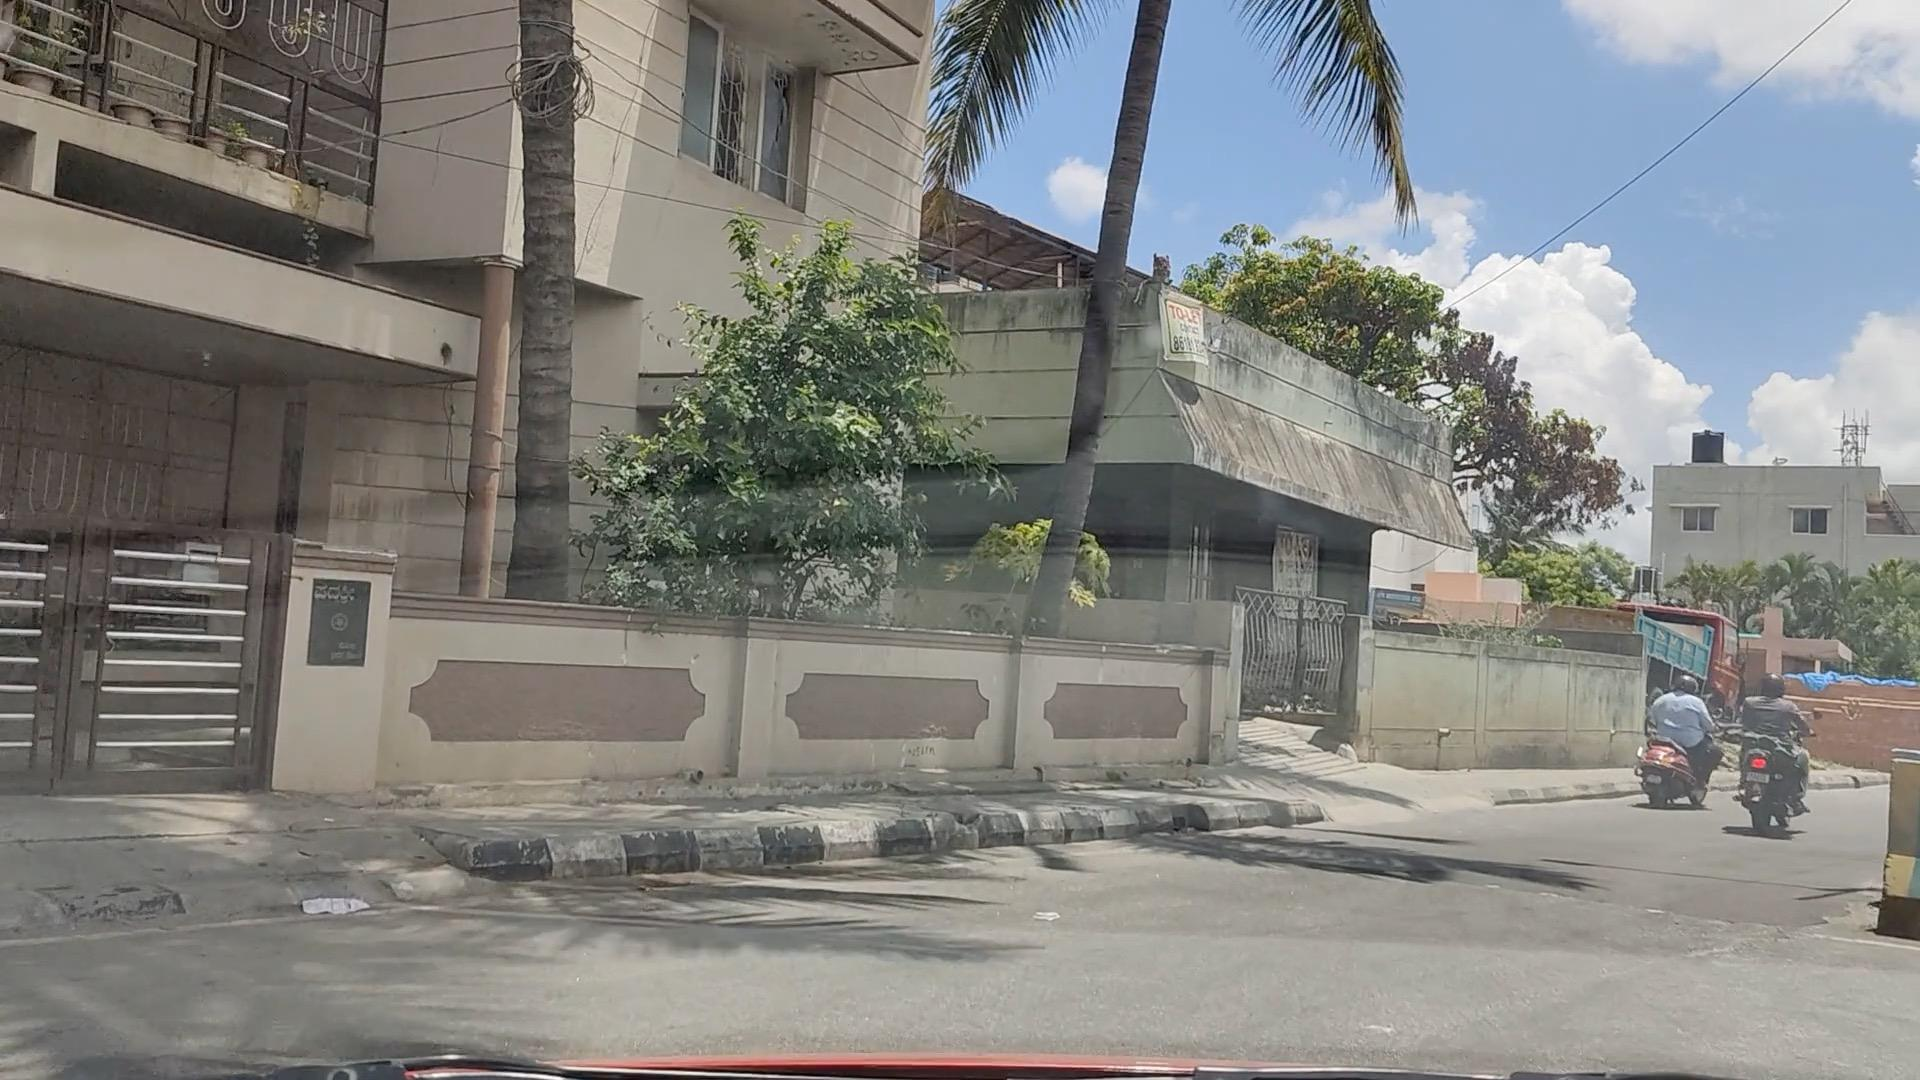RoadDamages: (1673, 857, 1870, 993)
